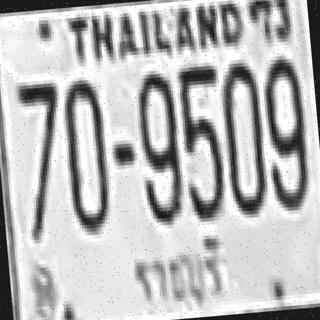N00: (60, 76, 110, 233), (217, 58, 267, 212)
N05: (175, 62, 225, 220)
N07: (14, 81, 66, 239), (13, 80, 65, 223), (14, 79, 62, 188)
N09: (258, 54, 311, 208), (134, 69, 184, 223)
P52: (124, 232, 229, 317)
